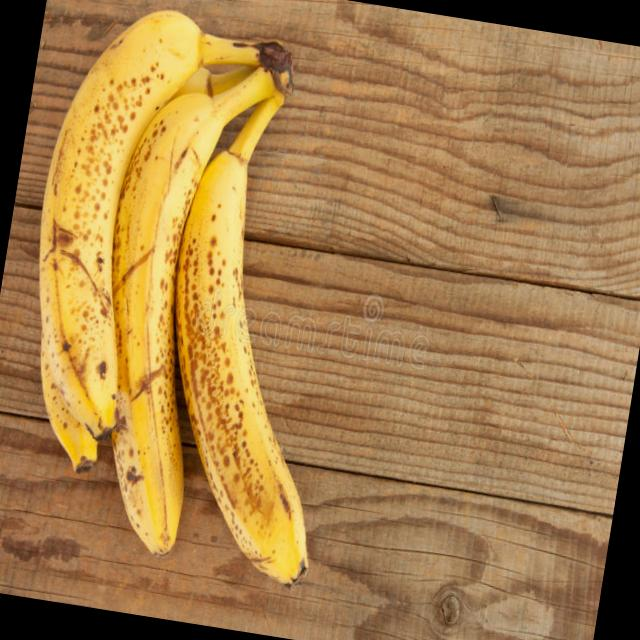banana: (0, 0, 395, 602)
